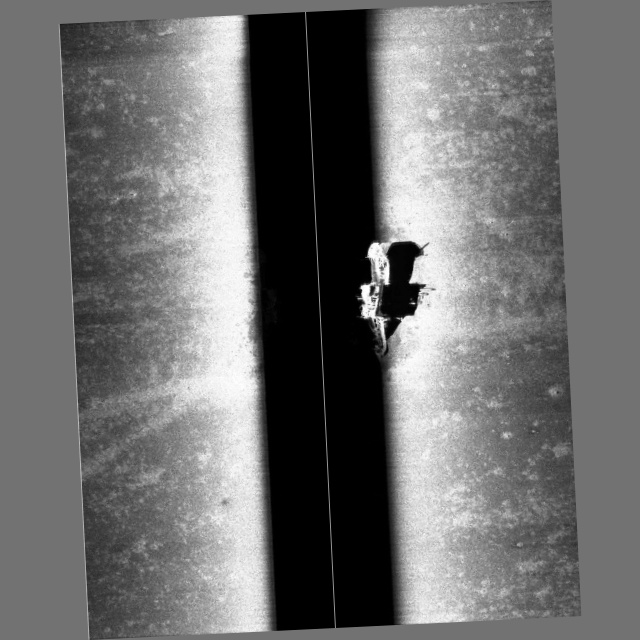Shipwreck: (353, 241, 396, 360)
